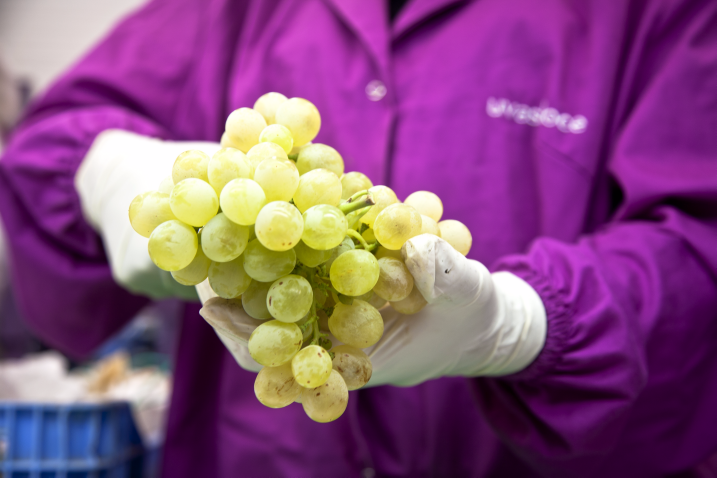Green grapes: (123, 100, 475, 421)
